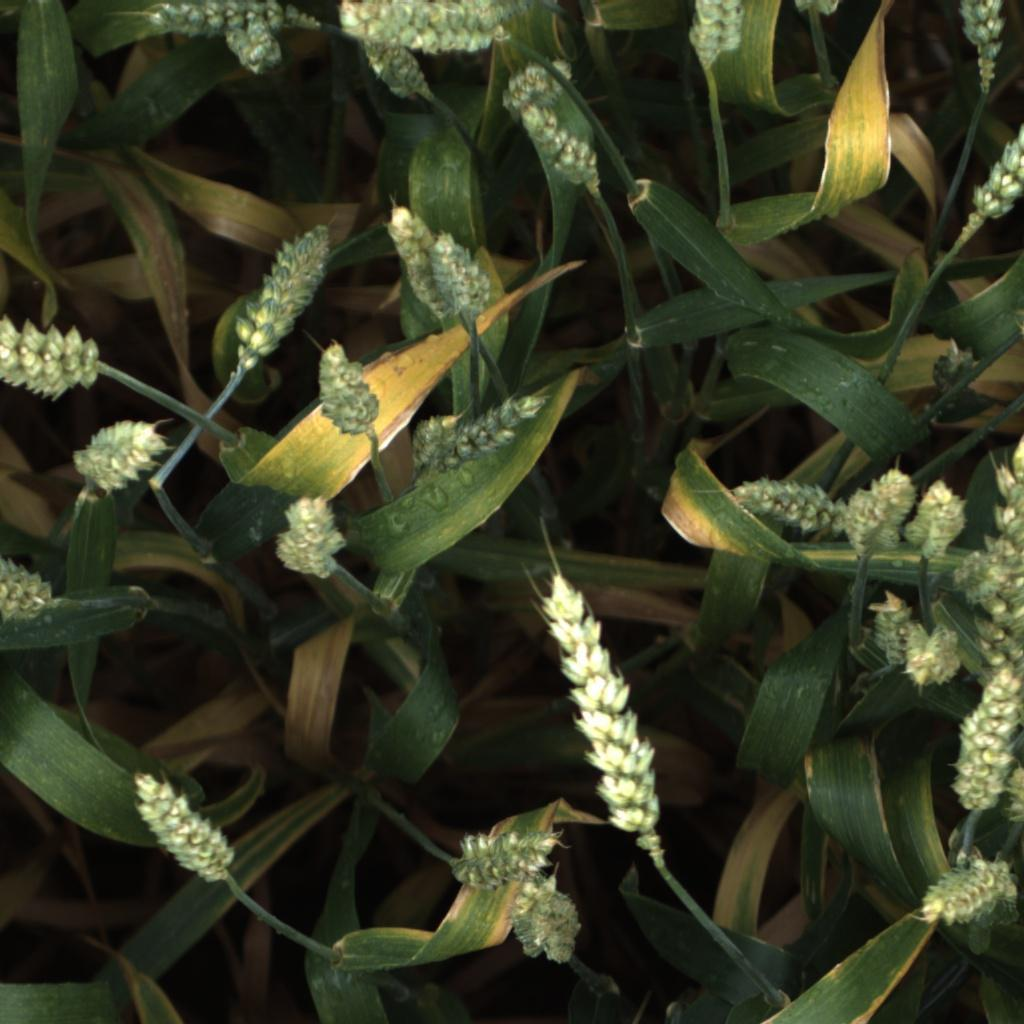0-0: (540, 566, 668, 861), (224, 218, 338, 366), (972, 428, 1024, 725), (410, 385, 555, 478), (127, 765, 240, 884), (944, 666, 1024, 812), (333, 1, 536, 58), (0, 294, 102, 400), (913, 847, 1022, 934), (446, 817, 567, 889), (69, 413, 165, 500), (977, 54, 1024, 231), (726, 466, 836, 541), (521, 103, 607, 197), (308, 338, 386, 441), (269, 492, 356, 583), (834, 465, 921, 556), (507, 876, 589, 972), (380, 194, 442, 319), (140, 1, 322, 40), (901, 471, 971, 562), (428, 228, 492, 316), (895, 622, 968, 698), (497, 52, 581, 115), (955, 531, 1022, 608), (958, 1, 1010, 98), (358, 40, 434, 106), (868, 584, 925, 669), (0, 545, 59, 627), (682, 0, 749, 69), (923, 337, 987, 399), (220, 28, 287, 77), (1005, 764, 1024, 826), (794, 0, 844, 18)
